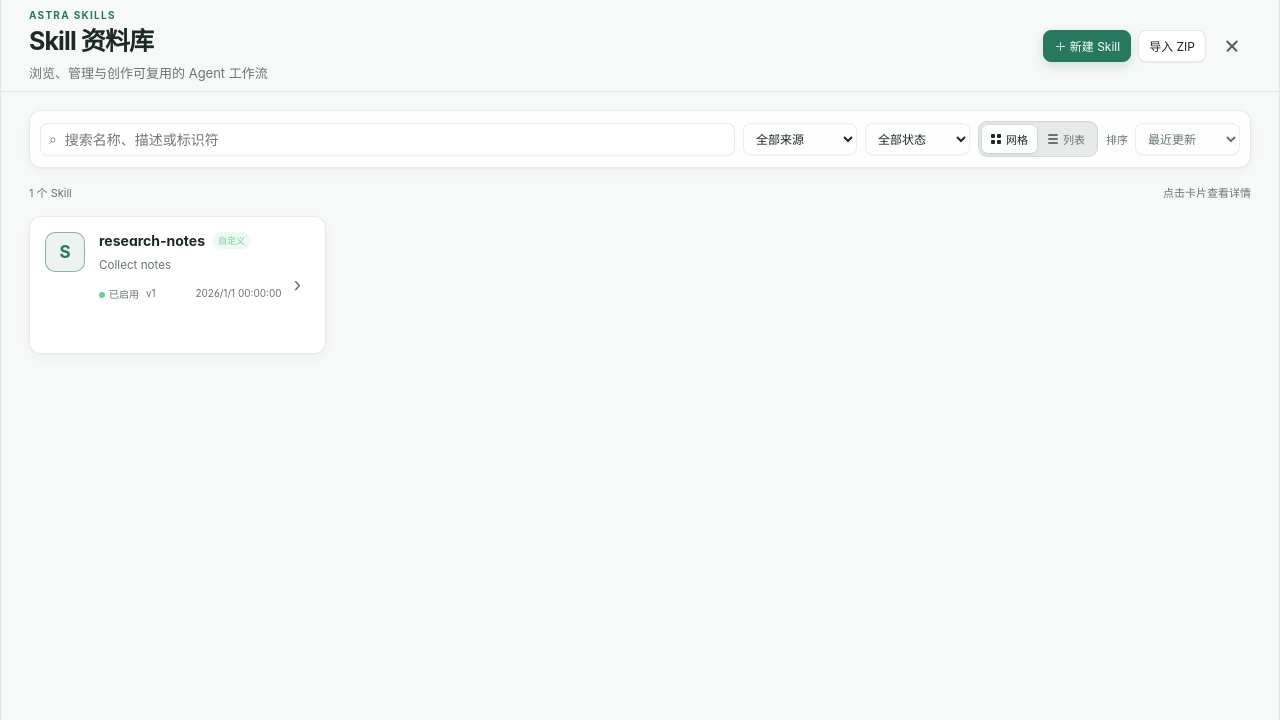
Test case: SkillWorkbench › opens the editor as a full-viewport workspace with accessible vector icons
This screenshot has width=1280, height=720.
Click the button "research-notes": (65, 252) x1=29 y1=216 x2=326 y2=354
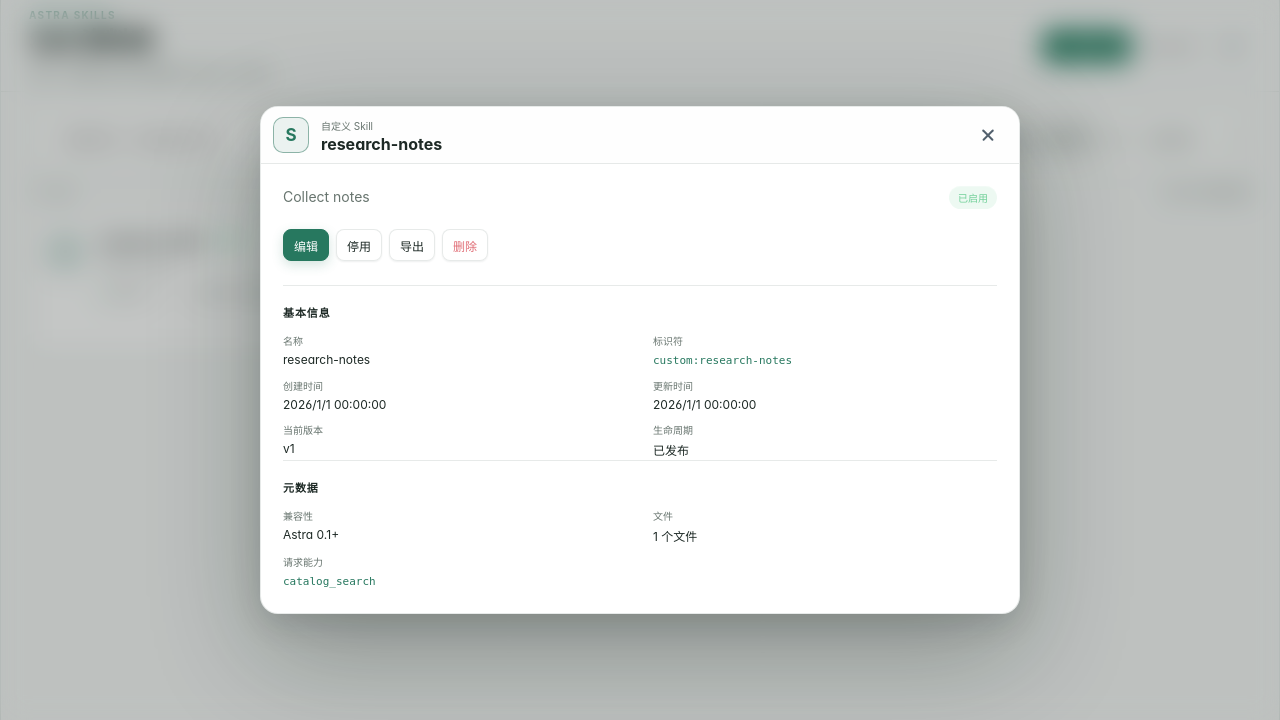
Click the button "编辑": (306, 245) x1=283 y1=229 x2=329 y2=261
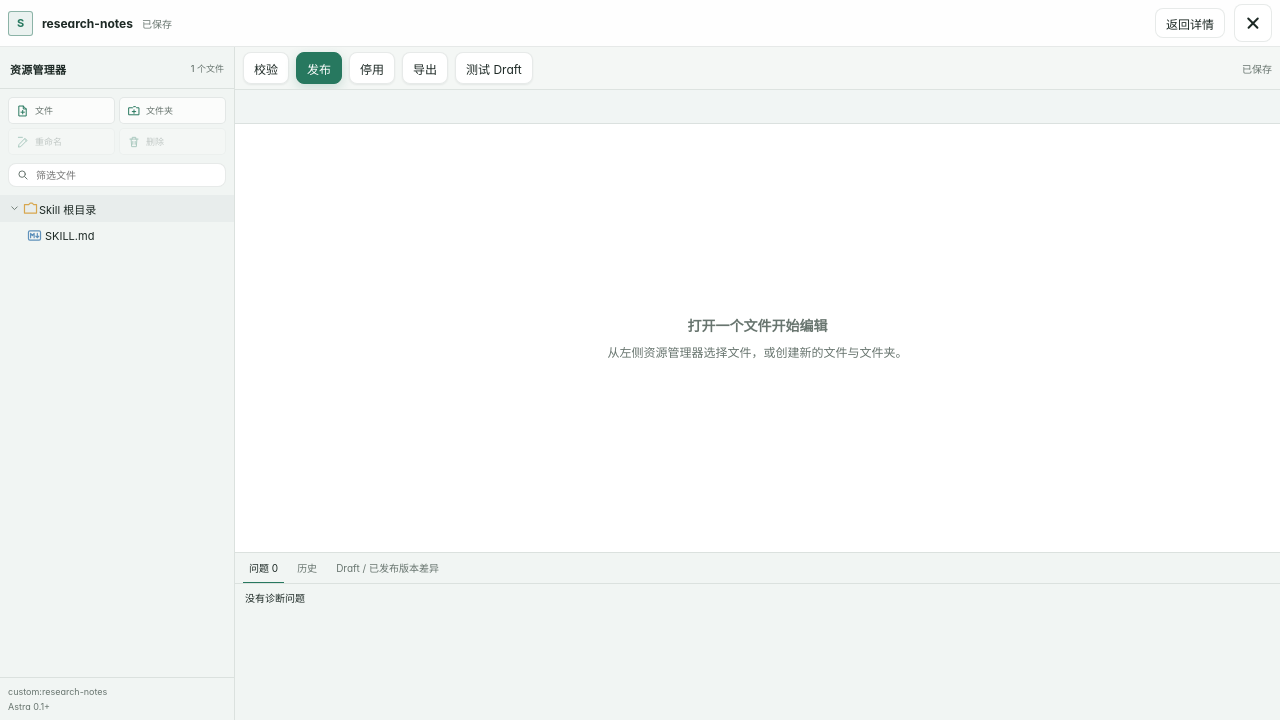
Expected: the dialog with class "skill-editor-dialog" is shown
Expected: the 8th icon is shown, x1=22 y1=200 x2=38 y2=217
Expected: the 2nd icon is shown, x1=16 y1=104 x2=30 y2=118
